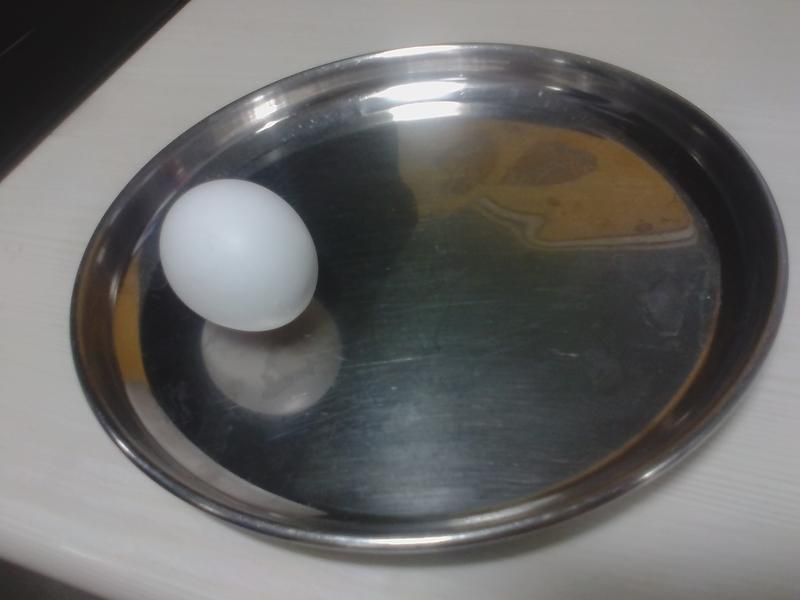egg: (160, 171, 313, 330)
